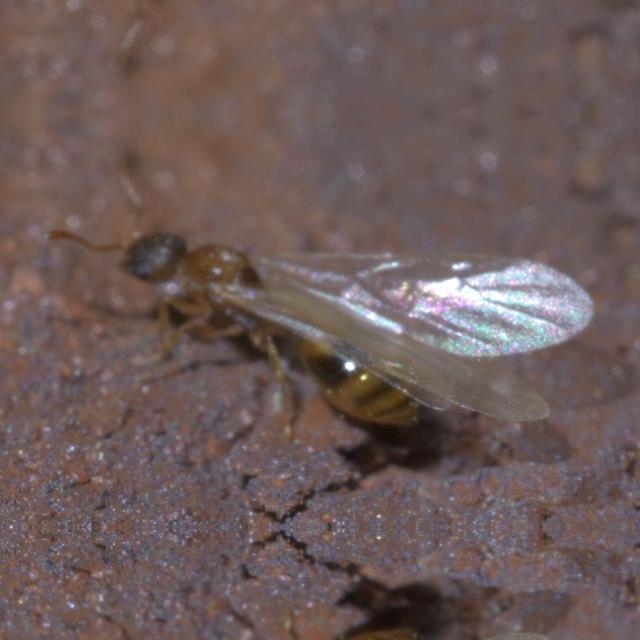Temnothorax: (49, 184, 551, 442)
